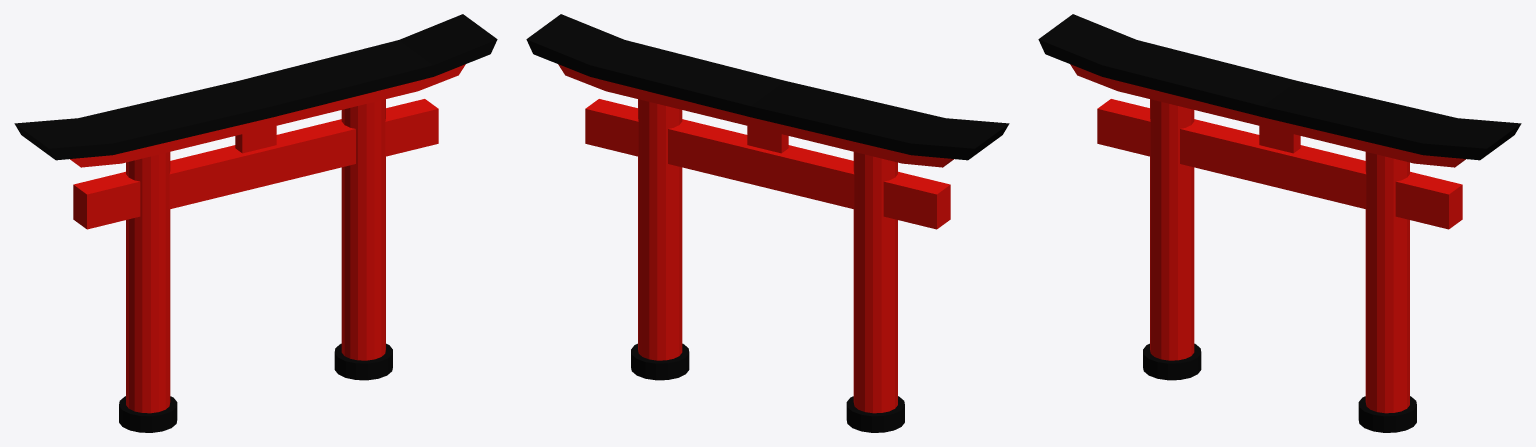
File: Torii.fbx
3 renders of one model, left to right at view 1: azimuth 30°, elevation 25°; view 2: azimuth 150°, elevation 25°; view 3: azimuth 330°, elevation 25°, orthographic.
Parts seen in each view (by area): view 1: 円柱; view 2: 円柱; view 3: 円柱.
Part boxes in pixels (x1,y1,x2,y2): 円柱: (14, 14, 497, 432); 円柱: (526, 14, 1009, 432); 円柱: (1038, 14, 1521, 432).
Bounding box in the file's own units: 1051 × 700 × 140.
